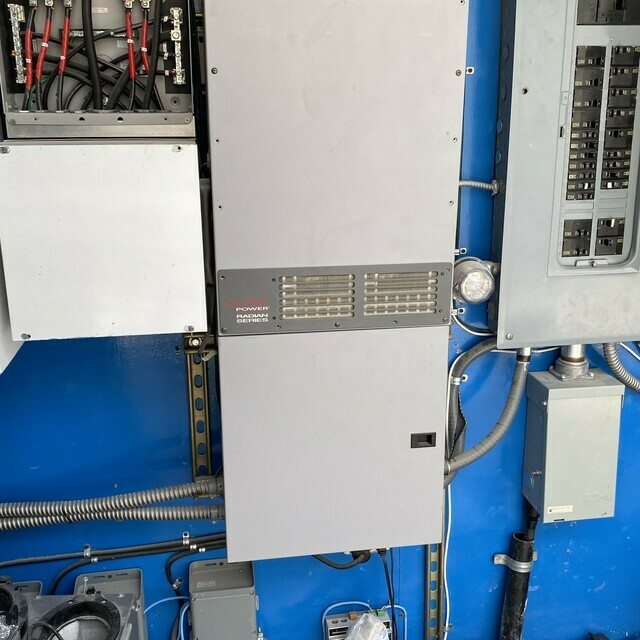inverter: (200, 1, 476, 576)
